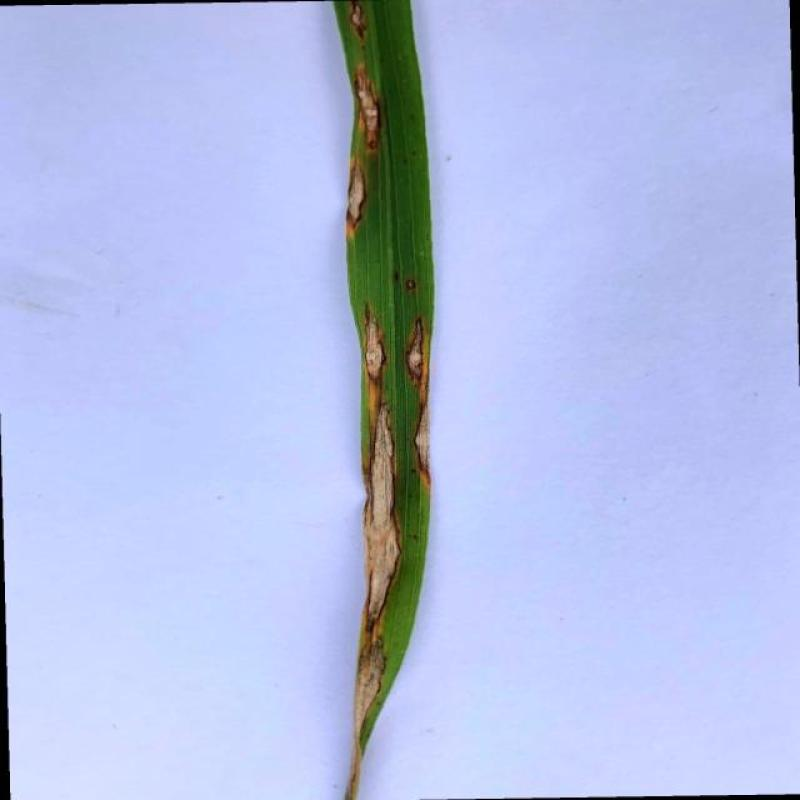Leaf_Blast: (359, 399, 405, 634), (356, 631, 386, 740), (352, 64, 382, 154), (361, 310, 389, 390), (346, 156, 370, 240), (403, 315, 428, 387), (414, 397, 432, 493), (346, 0, 372, 44), (403, 276, 419, 294)
